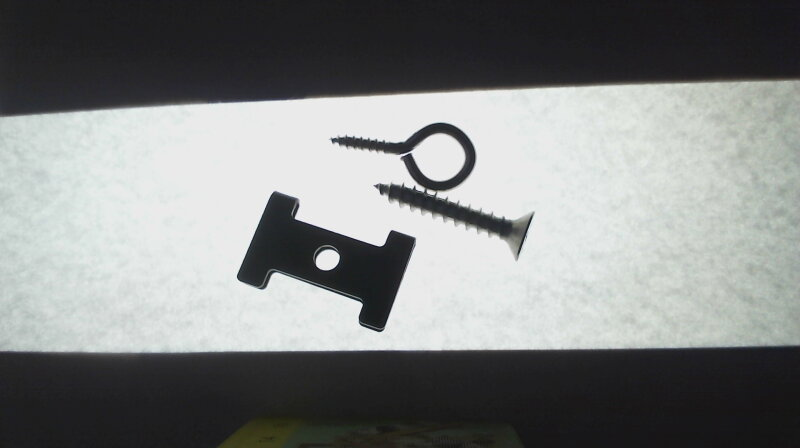O001: (327, 120, 478, 193)
O002: (234, 189, 416, 332)
S001: (368, 181, 538, 263)
